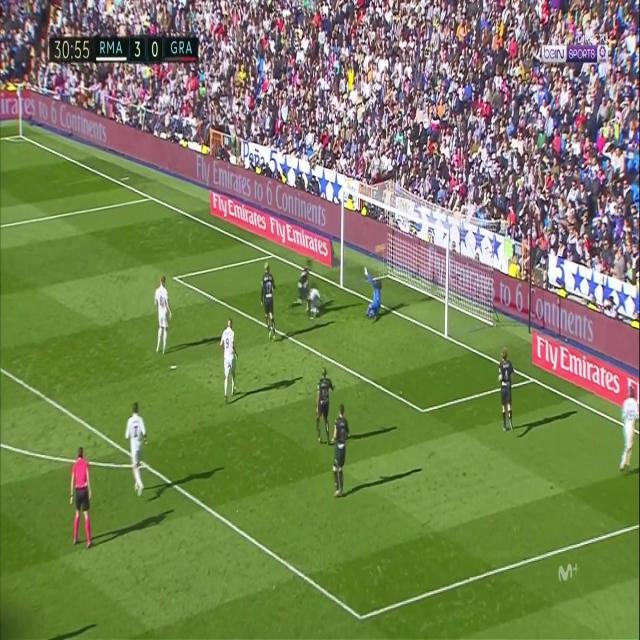Goalkeeper: (363, 261, 383, 323)
Player: (124, 401, 150, 499), (331, 402, 352, 504), (496, 345, 518, 434), (314, 366, 336, 450), (618, 387, 639, 474), (220, 318, 240, 406), (259, 256, 279, 343), (154, 272, 173, 361), (289, 259, 313, 311), (306, 282, 324, 324)
Referee: (70, 443, 92, 552)
